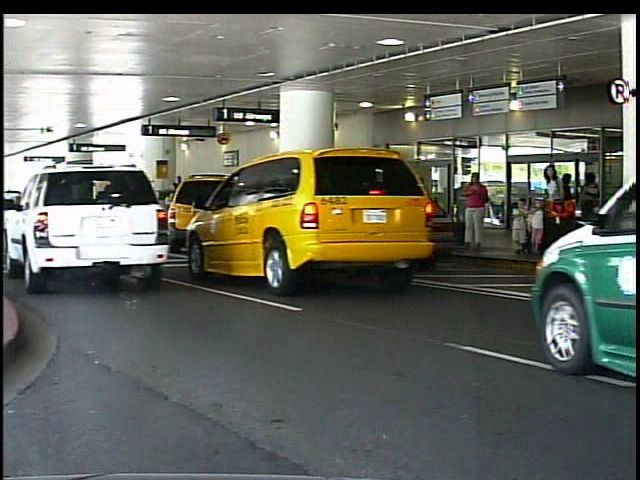person: (463, 169, 491, 255), (544, 163, 569, 250), (584, 170, 607, 239), (560, 173, 580, 242), (516, 198, 536, 254), (531, 202, 548, 255)
